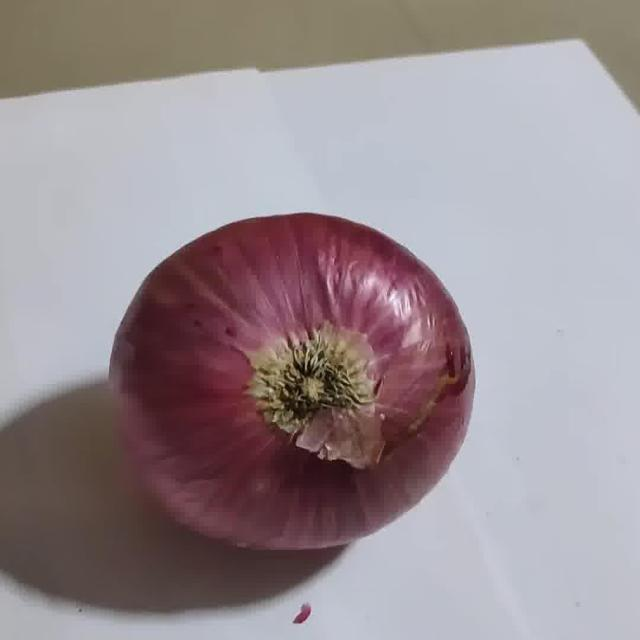Onion: (111, 213, 473, 550)
